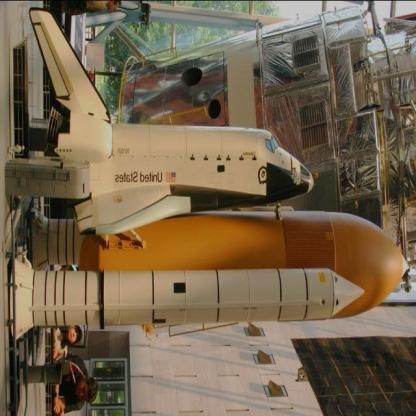MIL_TBM: (15, 258, 373, 329)
